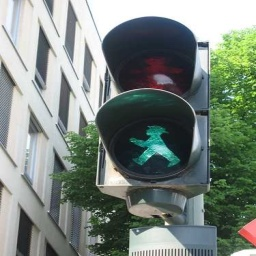traffic light: (96, 16, 210, 186)
